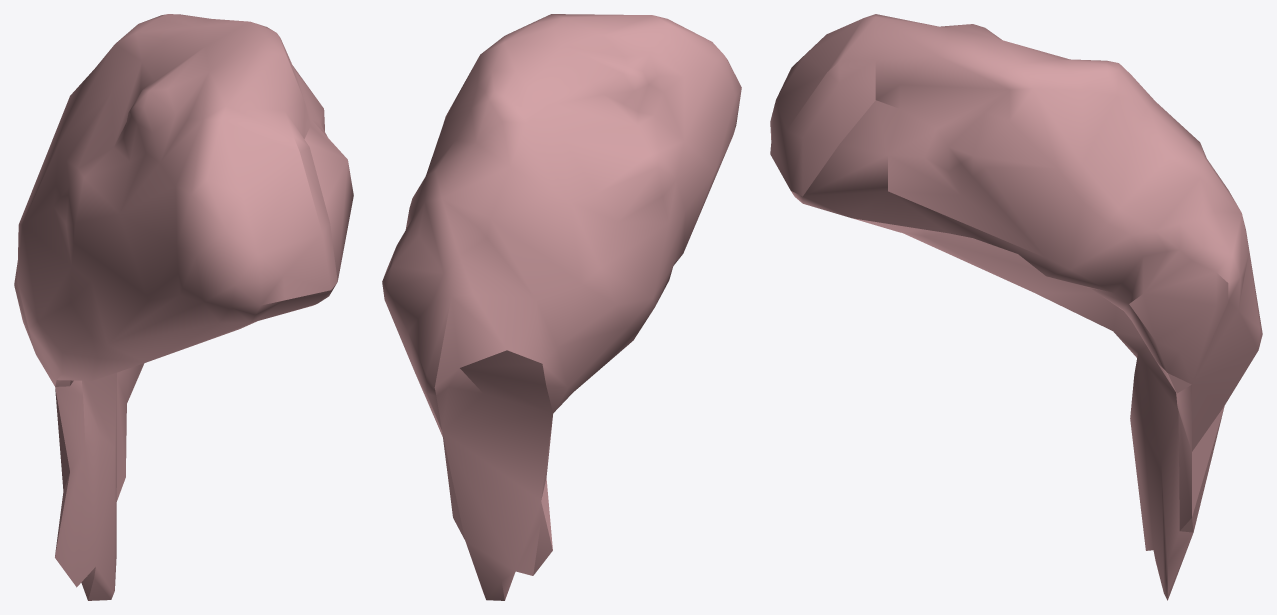
The model's file is fma18257.glb.
3 views of the same model, side by side, from view 1: azimuth 30°, elevation 25°; view 2: azimuth 150°, elevation 25°; view 3: azimuth 270°, elevation 25° (orthographic). The views are drawn at different scales.
Parts seen in each view (by area): view 1: FMA18257; view 2: FMA18257; view 3: FMA18257.
Boxes of the visible parts, x1,y1,x2,y2 form: FMA18257: (14, 14, 353, 600); FMA18257: (382, 14, 741, 600); FMA18257: (770, 14, 1262, 600).
Size of the model in its own units: 0.011 by 0.0259 by 0.0202.
